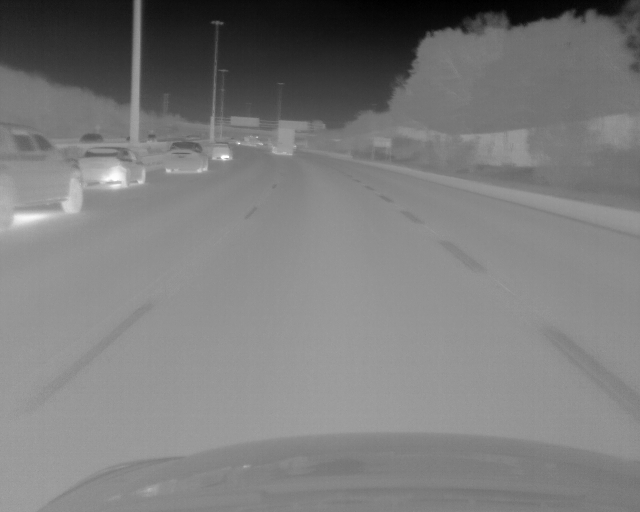car: (1, 124, 83, 225), (78, 146, 146, 188), (163, 141, 208, 173), (268, 127, 294, 154), (211, 143, 232, 160), (81, 133, 105, 143)
